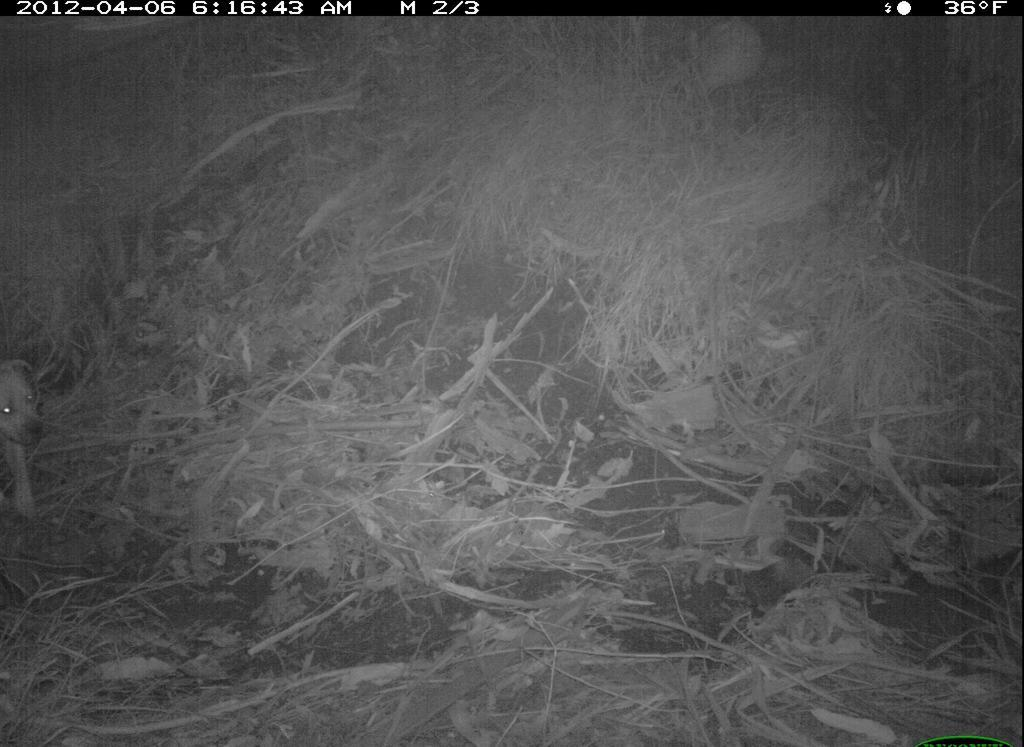dog: (2, 340, 63, 542)
